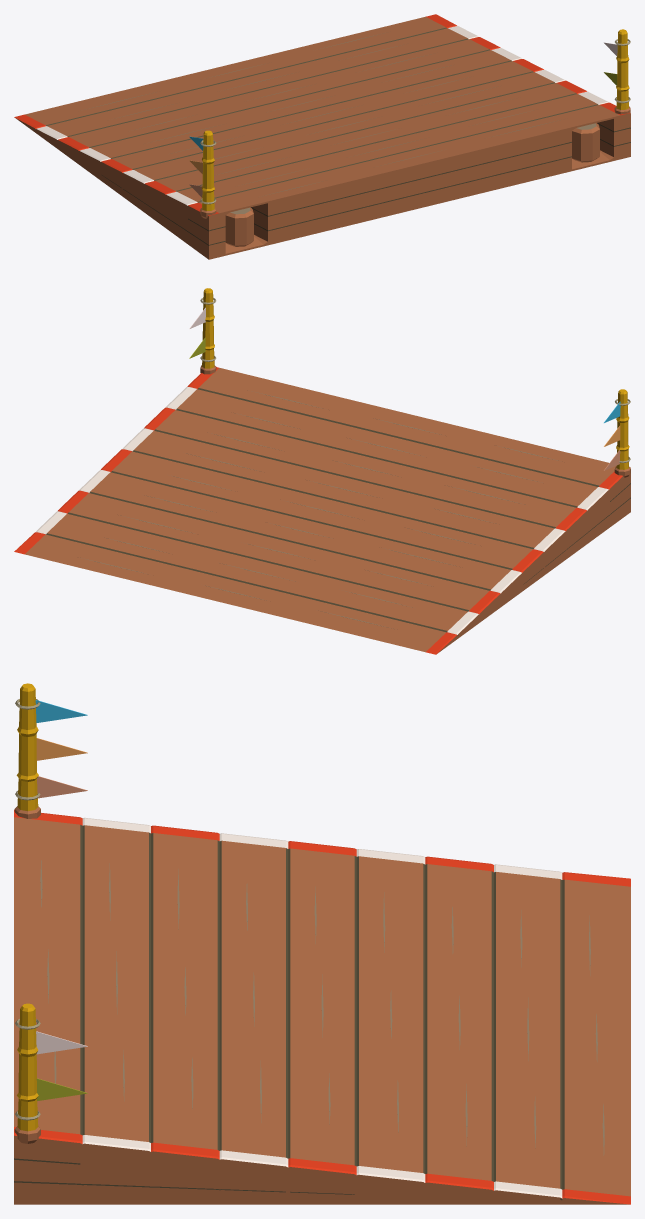
File: jumpLanding.glb
3 views of the same model, one above another, from view 1: azimuth 30°, elevation 25°; view 2: azimuth 150°, elevation 25°; view 3: azimuth 270°, elevation 25° (orthographic). The views are drawn at different scales.
Parts seen in each view (by area): view 1: jumpLanding; view 2: jumpLanding; view 3: jumpLanding.
Part boxes in pixels (x1=…): jumpLanding: x1=14, y1=14, x2=630, y2=259; jumpLanding: x1=14, y1=288, x2=630, y2=654; jumpLanding: x1=14, y1=683, x2=630, y2=1204.
Bounding box in the file's own units: 10.16 × 2.8 × 8.
Materials: 1 (1 with a texture image).
